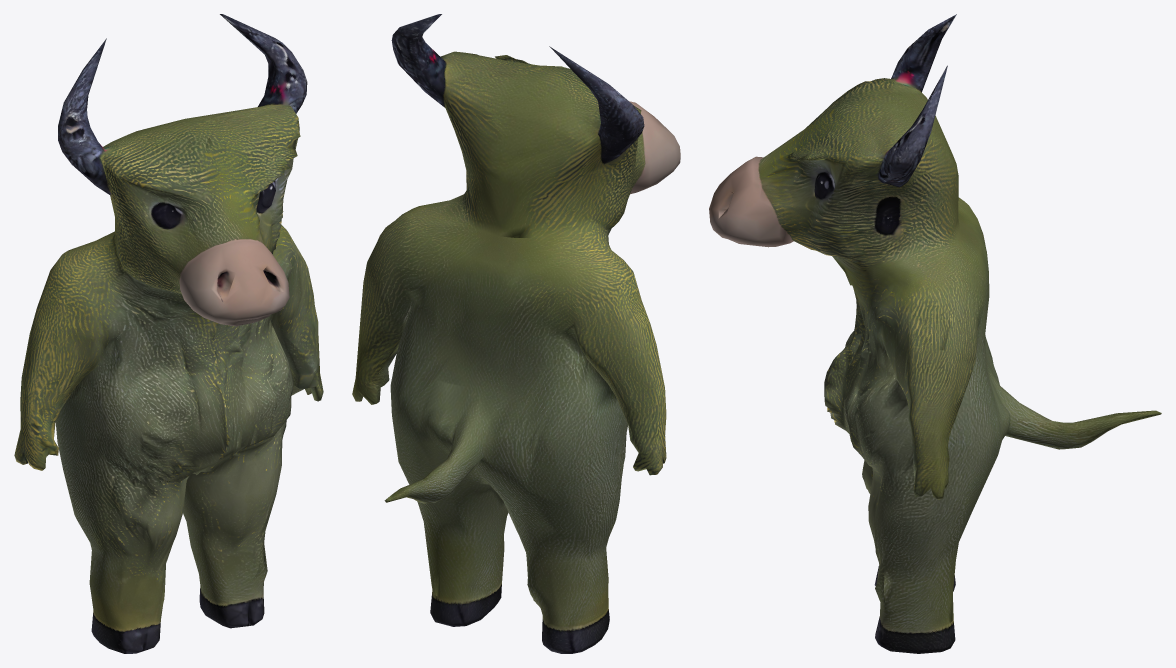
File: 牛来-普通牛.fbx
3 renders of one model, left to right at view 1: azimuth 30°, elevation 25°; view 2: azimuth 150°, elevation 25°; view 3: azimuth 270°, elevation 25°, orthographic. The views are drawn at different scales.
Parts seen in each view (by area): view 1: tripo_node_dc2a8cbb; view 2: tripo_node_dc2a8cbb; view 3: tripo_node_dc2a8cbb.
Boxes of the visible parts, x1,y1,x2,y2 form: tripo_node_dc2a8cbb: (14, 14, 323, 653); tripo_node_dc2a8cbb: (352, 14, 680, 653); tripo_node_dc2a8cbb: (709, 14, 1161, 653).
Size of the model in its own units: 0.5303 by 0.9984 by 0.7053.
Materials: 1 (1 with a texture image).
